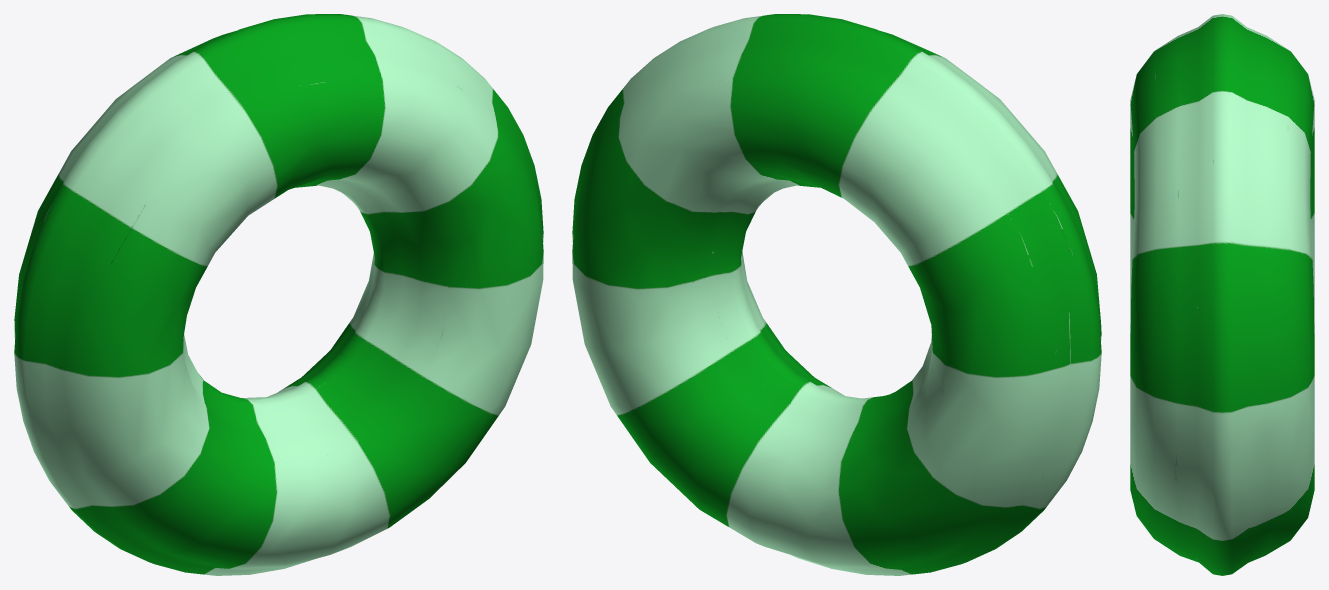
File: green ring.fbx
3 views of the same model, side by side, from view 1: azimuth 30°, elevation 25°; view 2: azimuth 150°, elevation 25°; view 3: azimuth 270°, elevation 25° (orthographic). The views are drawn at different scales.
Visible parts, largest first — view 1: Circle; view 2: Circle; view 3: Circle.
Boxes of the visible parts, x1,y1,x2,y2 form: Circle: (14,14,543,575); Circle: (572,14,1101,575); Circle: (1130,14,1314,575).
Size of the model in its own units: 370 by 369 by 121.
Materials: 1 (1 with a texture image).
